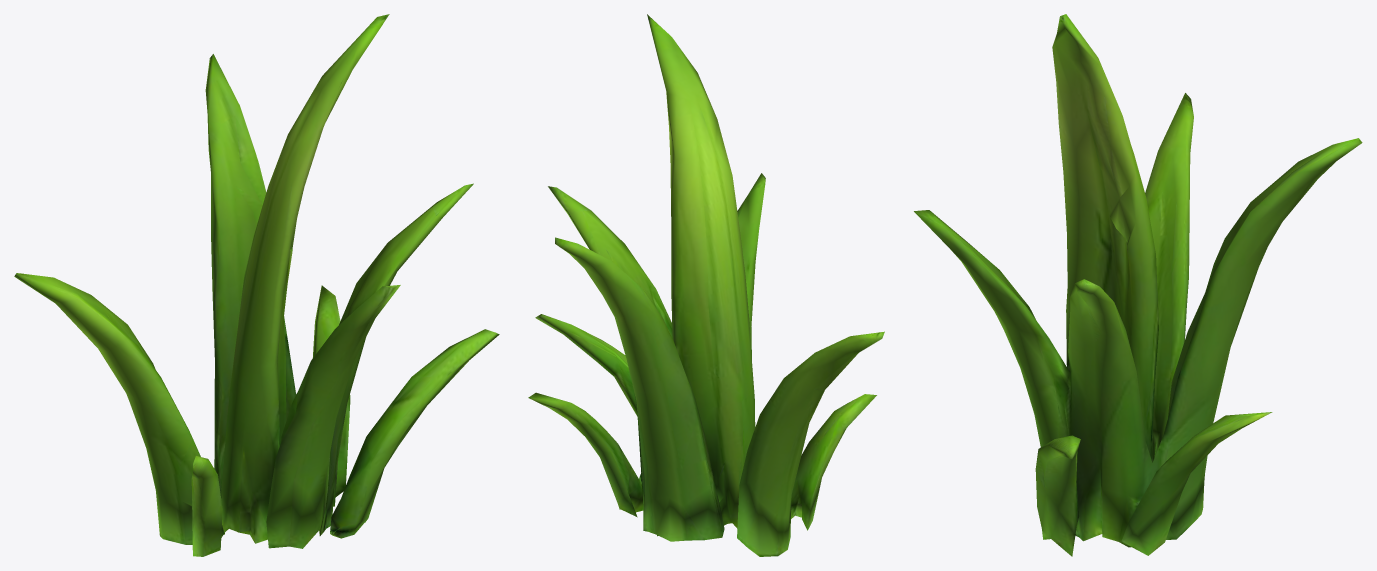
The model's file is grass.glb.
3 views of the same model, side by side, from view 1: azimuth 30°, elevation 25°; view 2: azimuth 150°, elevation 25°; view 3: azimuth 270°, elevation 25° (orthographic). The views are drawn at different scales.
Bounding box in the file's own units: 1.79 × 2.02 × 1.49.
Materials: 1 (1 with a texture image).
